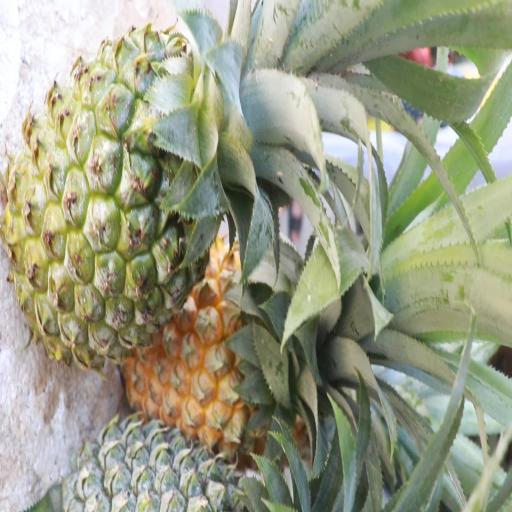------------------------------: (10, 21, 232, 352)
Pineapple - v8 v1: (130, 251, 327, 462)
